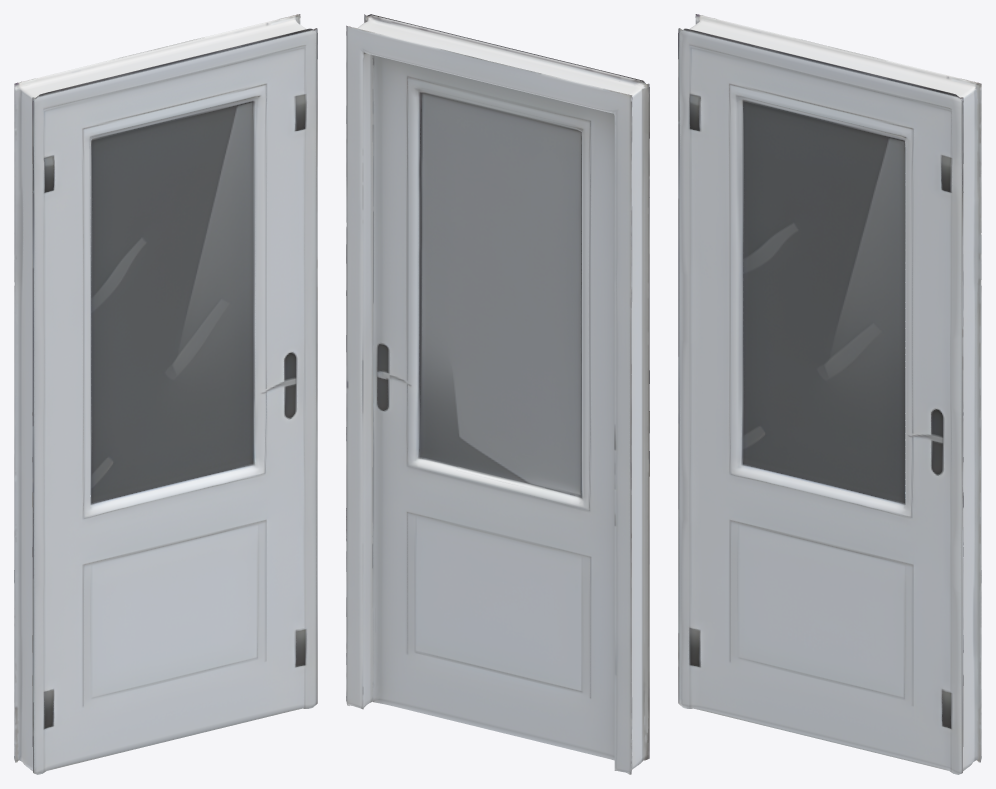
The model's file is base_basic_shaded.glb.
The picture shows the model from 3 angles, left to right: view 1: azimuth 30°, elevation 25°; view 2: azimuth 150°, elevation 25°; view 3: azimuth 330°, elevation 25°; orthographic projection.
Parts seen in each view (by area): view 1: model; view 2: model; view 3: model.
Boxes of the visible parts, <box> form: model: <box>14,14,317,774</box>; model: <box>346,14,649,774</box>; model: <box>678,14,981,774</box>.
Size of the model in its own units: 0.8377 by 1.9 by 0.098.
1 material, 1 textured.
